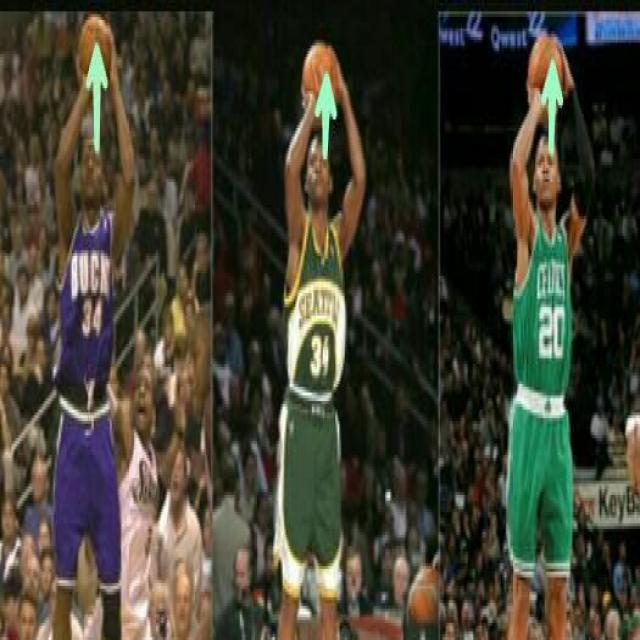Basketball: (302, 42, 340, 130), (528, 34, 564, 116), (78, 14, 112, 88)
